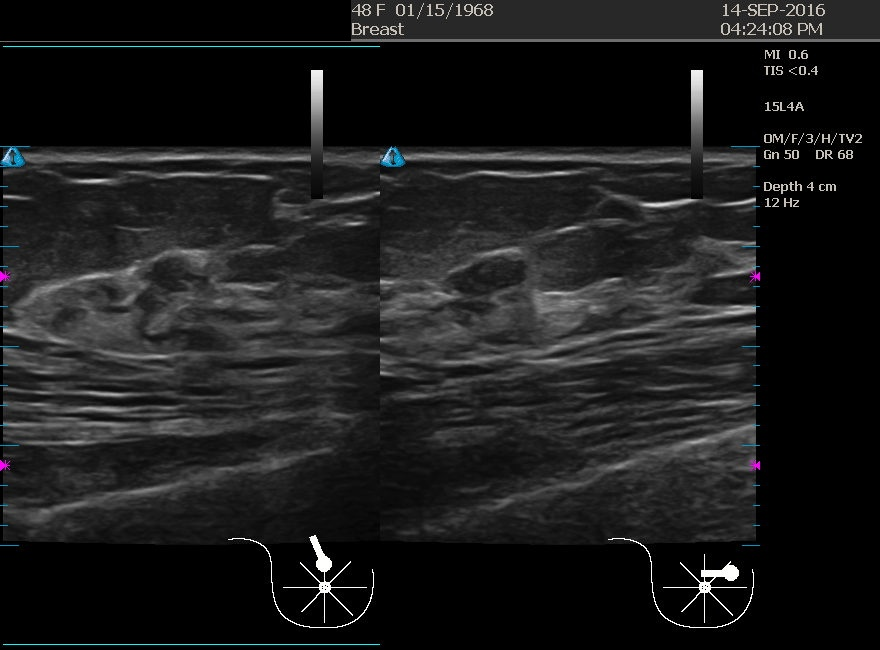BIRADS_3: (114, 231, 314, 431), (398, 194, 598, 394)
